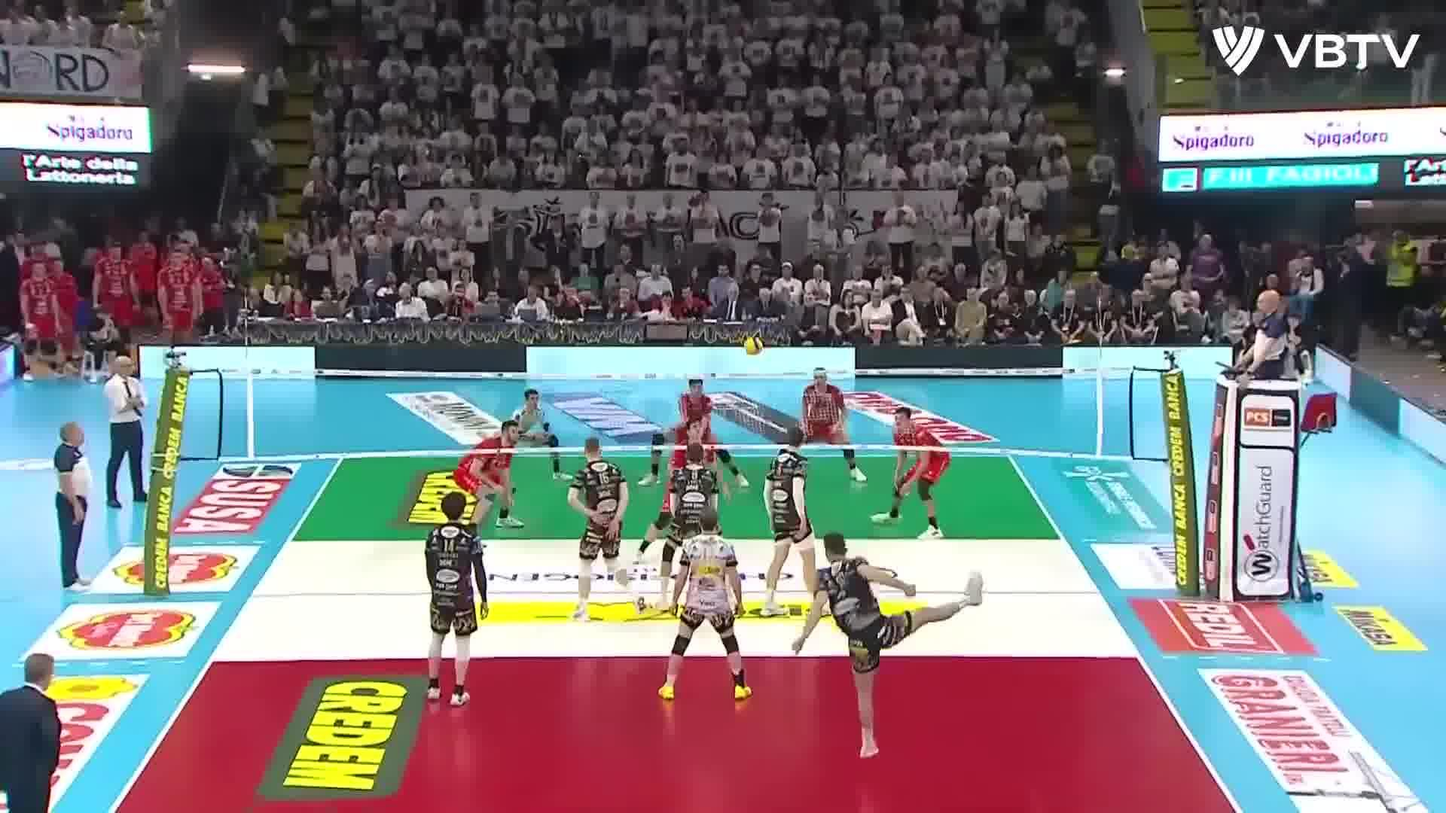balls: (743, 333, 766, 359)
